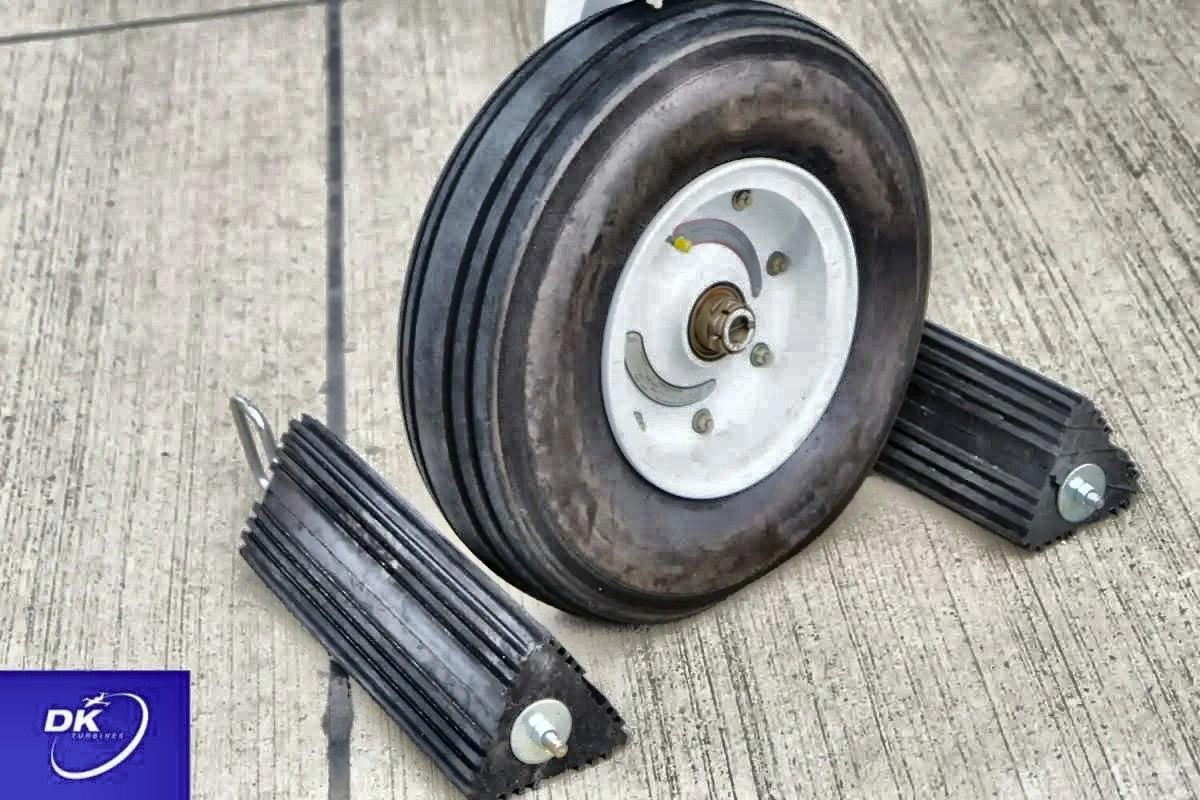chock: (189, 410, 631, 800), (831, 290, 1144, 560)
wheel: (404, 1, 929, 619)
